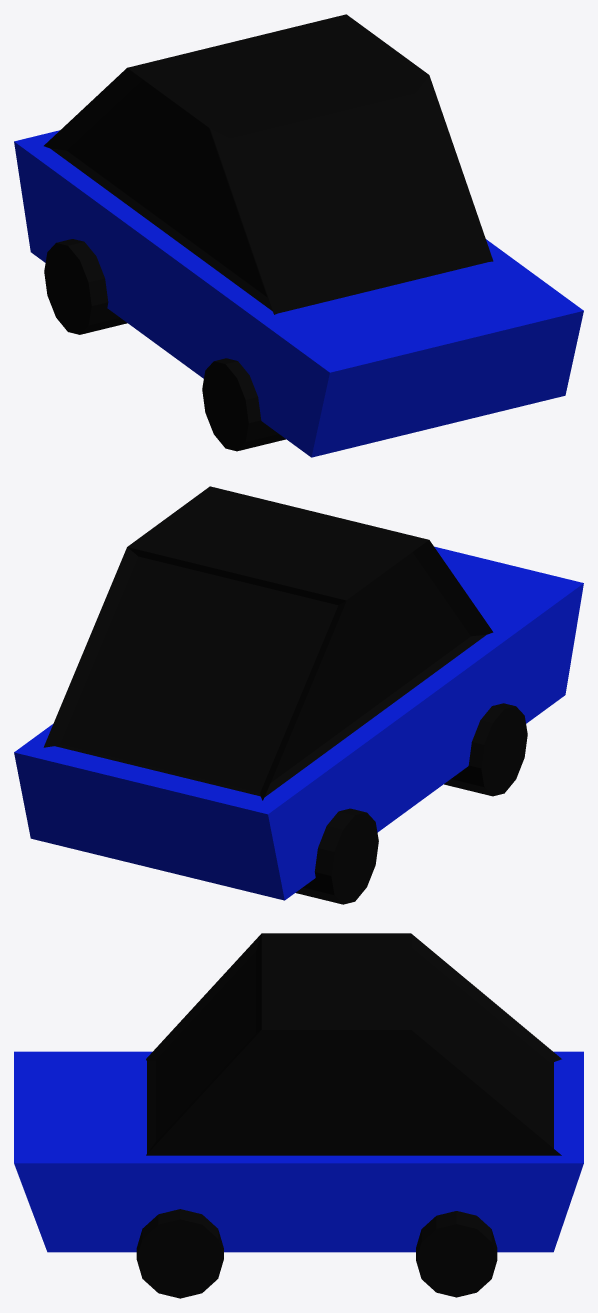
File: car.fbx
3 renders of one model, top to bottom at view 1: azimuth 30°, elevation 25°; view 2: azimuth 150°, elevation 25°; view 3: azimuth 270°, elevation 25°, orthographic. The views are drawn at different scales.
Parts seen in each view (by area): view 1: Cube, Cube.001, Cylinder.003, Cylinder.004; view 2: Cube, Cube.001, Cylinder.003, Cylinder.004; view 3: Cube, Cube.001, Cylinder.002, Cylinder.
Part boxes in pixels (box(x1,y1,x2,y2)): Cube: box(44, 14, 493, 314); Cube.001: box(14, 130, 583, 457); Cylinder.003: box(44, 239, 127, 334); Cylinder.004: box(202, 358, 285, 451); Cube: box(43, 486, 493, 800); Cube.001: box(14, 546, 583, 900); Cylinder.003: box(295, 808, 378, 904); Cylinder.004: box(444, 703, 527, 796); Cube: box(146, 933, 561, 1155); Cube.001: box(14, 1051, 583, 1252); Cylinder.002: box(136, 1209, 223, 1298); Cylinder: box(416, 1211, 497, 1297).
Bounding box in the file's own units: 444 × 394 × 807.
